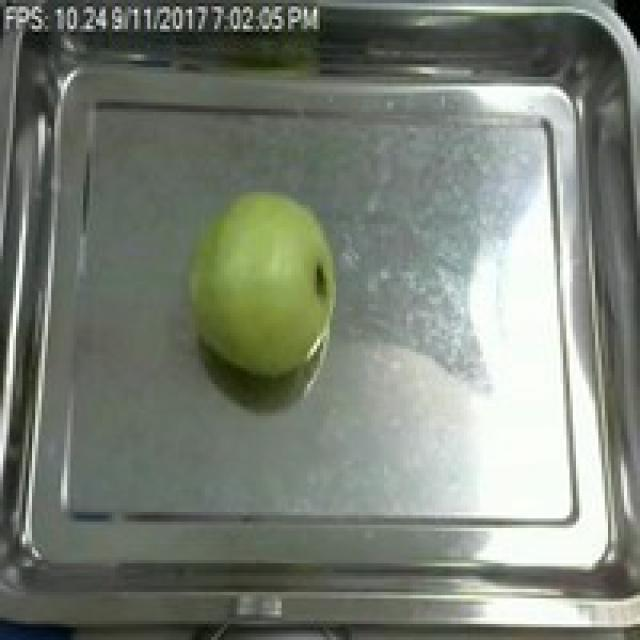Fruit: (173, 179, 349, 387)
